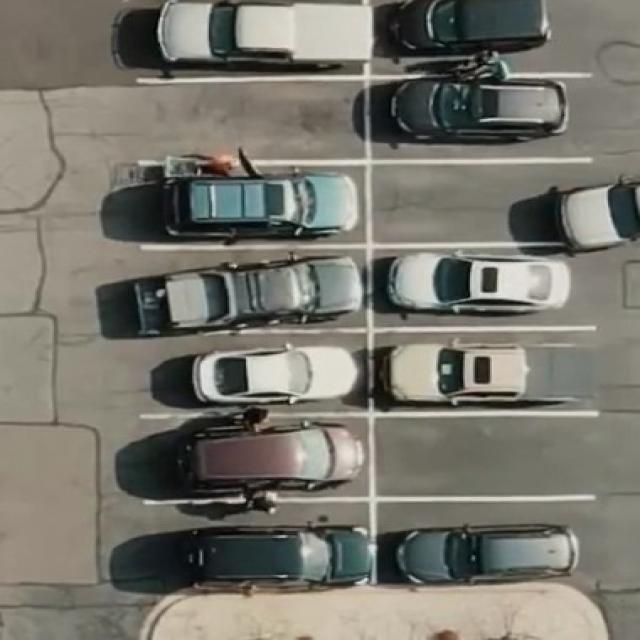space-empty: (130, 72, 366, 166), (369, 156, 588, 250), (371, 414, 596, 502)
space-occupied: (109, 498, 374, 595), (121, 242, 369, 337), (124, 411, 370, 501), (369, 323, 601, 415), (132, 157, 370, 245), (369, 65, 584, 160), (370, 497, 593, 588), (125, 336, 376, 416), (124, 0, 370, 79), (369, 239, 584, 326), (372, 0, 552, 65)
